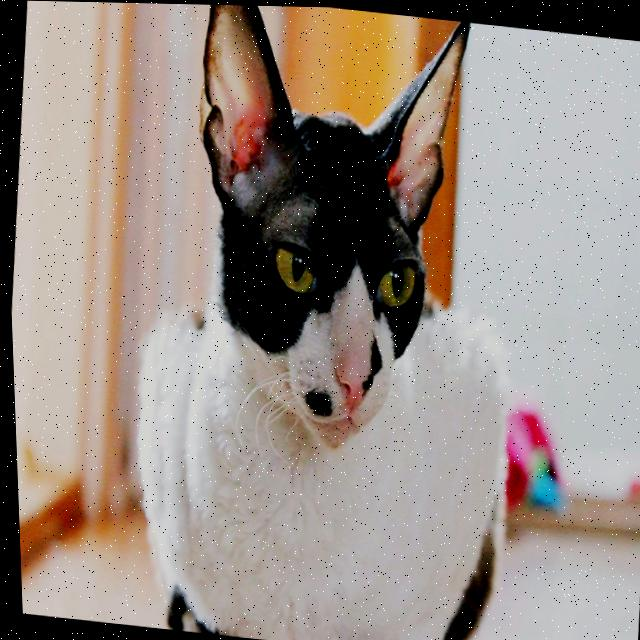Cornish Rex: (99, 2, 554, 640)
